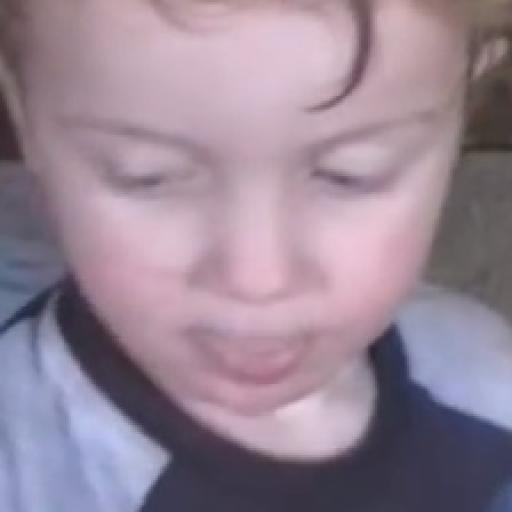Autism: (16, 7, 512, 457)
